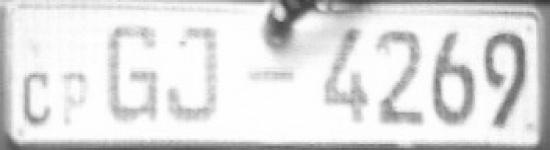-: (242, 62, 302, 91)
2: (374, 22, 428, 133)
4: (320, 23, 374, 126)
6: (428, 21, 478, 131)
9: (478, 20, 530, 133)
C: (18, 66, 54, 129)
G: (105, 20, 164, 127)
J: (164, 20, 224, 127)
P: (54, 69, 90, 128)
